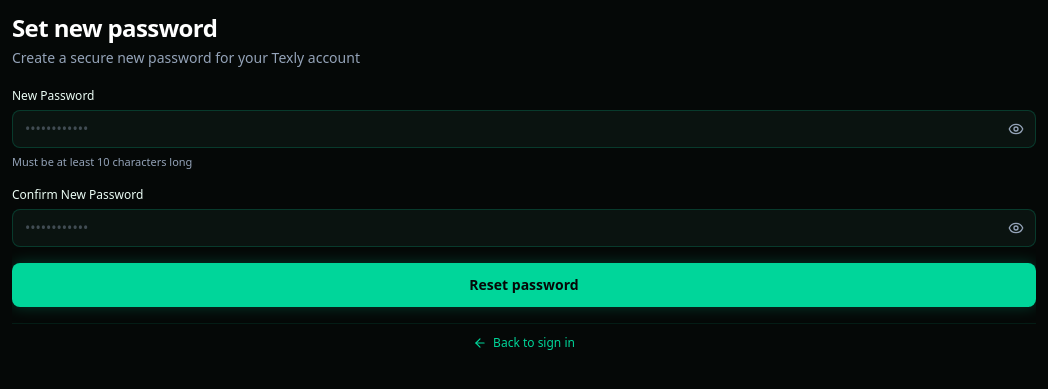
Scenario: ResetPasswordPage Component › enforces matching passwords
Type "NewPassword123!" into the password field labelled "New Password" at (524, 129), box x1=12 y1=110 x2=1036 y2=148
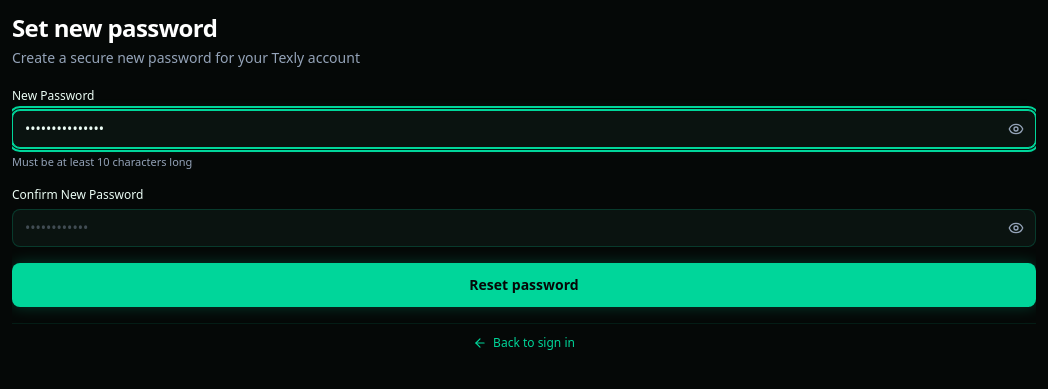
Type "DifferentPassword456!" into the password field labelled "Confirm New Password" at (524, 228), box x1=12 y1=208 x2=1036 y2=246
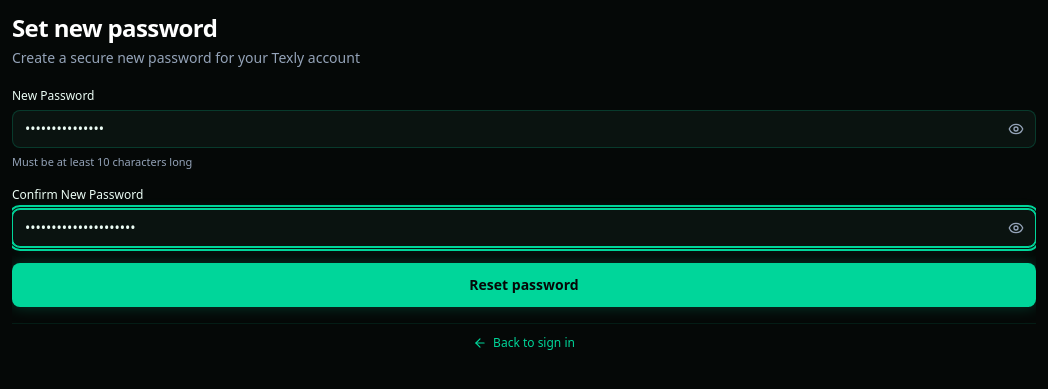
Click the button "Reset password" at (524, 284), box x1=12 y1=262 x2=1036 y2=306
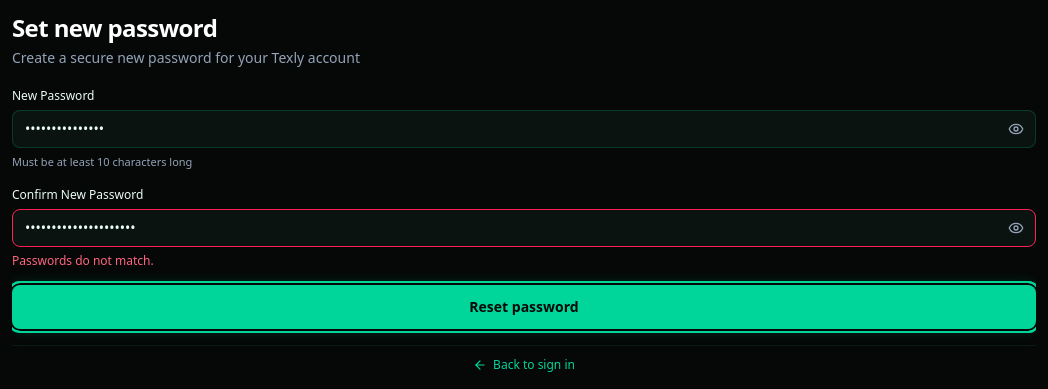
Result: the text "Passwords do not match." is shown at x1=12 y1=252 x2=154 y2=268
